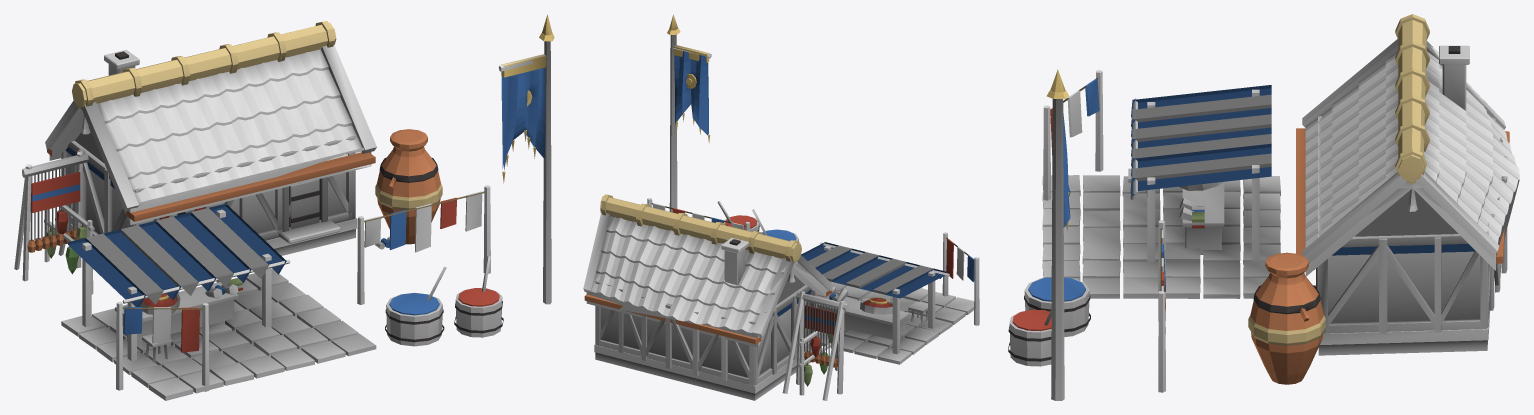
Rendered from menders-hut-l1.glb.
3 renders of one model, left to right at view 1: azimuth 30°, elevation 25°; view 2: azimuth 150°, elevation 25°; view 3: azimuth 270°, elevation 25°, orthographic. The views are drawn at different scales.
Visible parts, largest first — view 1: menders-hut-l1; view 2: menders-hut-l1; view 3: menders-hut-l1.
Part boxes in pixels (x1,y1,x2,y2): menders-hut-l1: (14, 14, 554, 400); menders-hut-l1: (583, 14, 979, 400); menders-hut-l1: (1008, 14, 1519, 400).
Bounding box in the file's own units: 1.37 × 0.9077 × 1.27.
